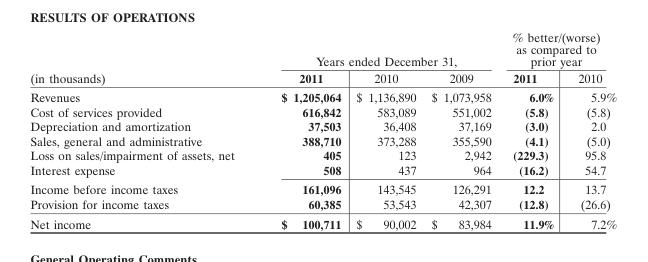table: (29, 29, 616, 230)
table column: (29, 29, 257, 230), (257, 29, 347, 230), (423, 29, 501, 230), (347, 29, 423, 230), (501, 29, 565, 230), (565, 29, 616, 230)
table column header: (29, 29, 616, 87)
table row: (29, 29, 616, 68), (29, 68, 616, 87), (29, 87, 616, 104), (29, 162, 616, 179), (29, 179, 616, 196), (29, 196, 616, 213), (29, 213, 616, 230), (29, 118, 616, 133), (29, 147, 616, 162), (29, 104, 616, 118), (29, 133, 616, 147)
table spanning cell: (29, 29, 257, 87), (257, 29, 501, 68), (501, 29, 616, 68)
